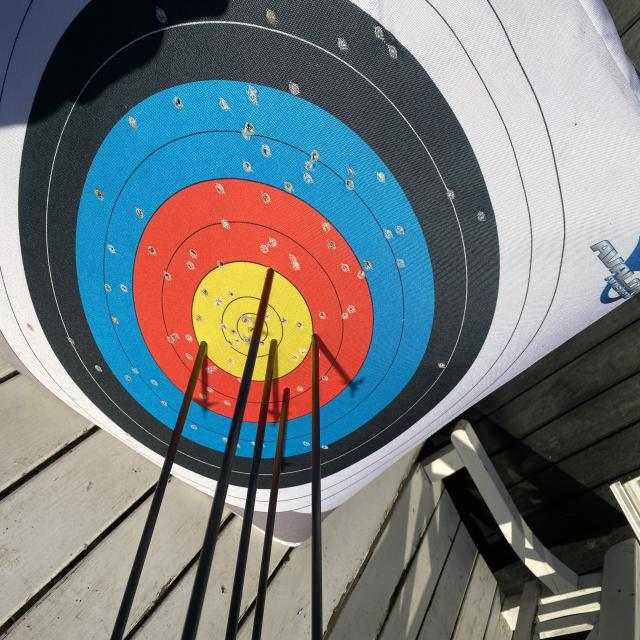Arrow_Red: (304, 328, 335, 362), (273, 377, 302, 407)
Arrow_Yellow: (261, 328, 286, 361), (194, 328, 213, 366), (264, 256, 286, 288)
